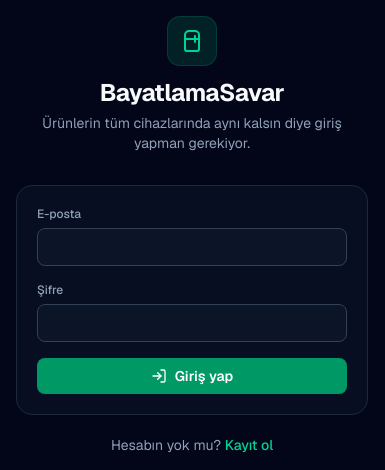
Test: AuthScreen › gönderim sırasında buton devre dışı
In the field labelled "E-posta": [192, 247] box x1=37 y1=228 x2=347 y2=266, type "ev@ornek.com"
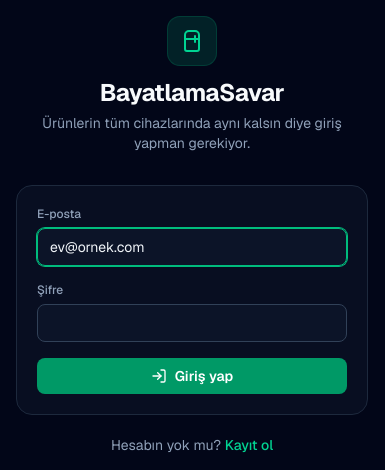
In the password field labelled "Şifre": [192, 323] box x1=37 y1=304 x2=347 y2=342, type "parola123"
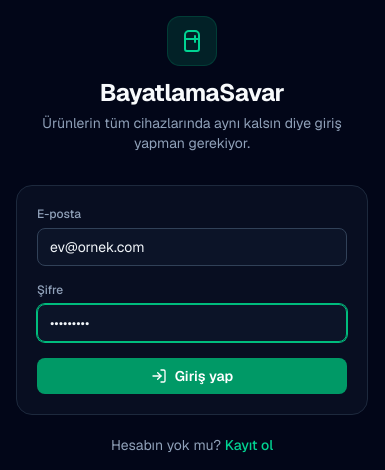
Click the button "Giriş yap": [192, 376] box x1=37 y1=358 x2=347 y2=394
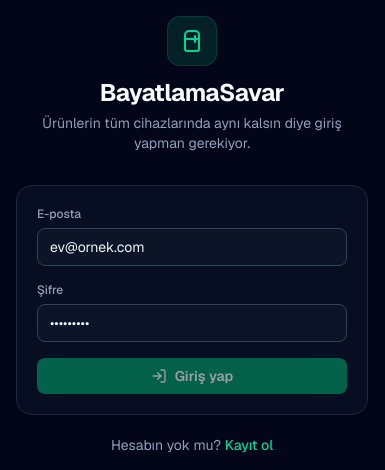
Expected: the button "Giriş yap" is disabled, x1=37 y1=358 x2=347 y2=394
